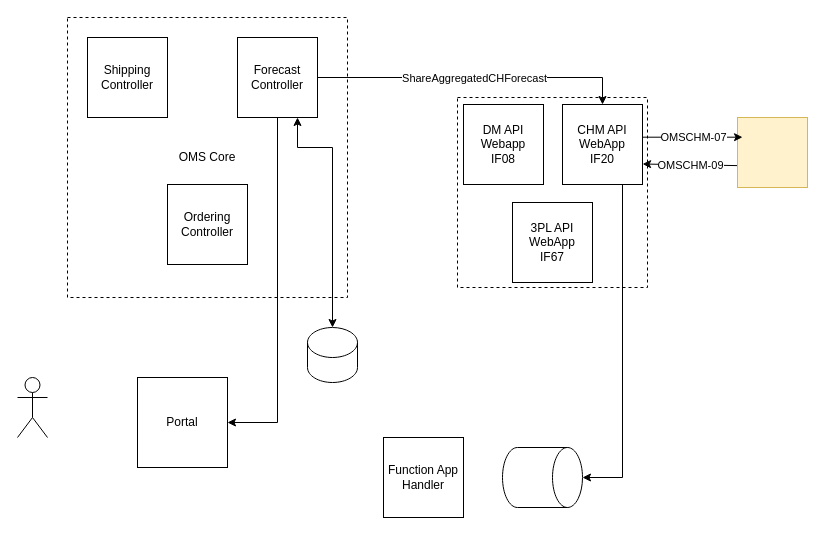
Image size: 825x535. Some labels were removed from this diagram. The shapes that lost their labels are listed below. From the top down, each one's centre as x and y in pixels, then its label:
At (x=772, y=152): "CHM".
At (x=332, y=354): "DB".
At (x=32, y=407): "User".
At (x=542, y=477): "Queue".
